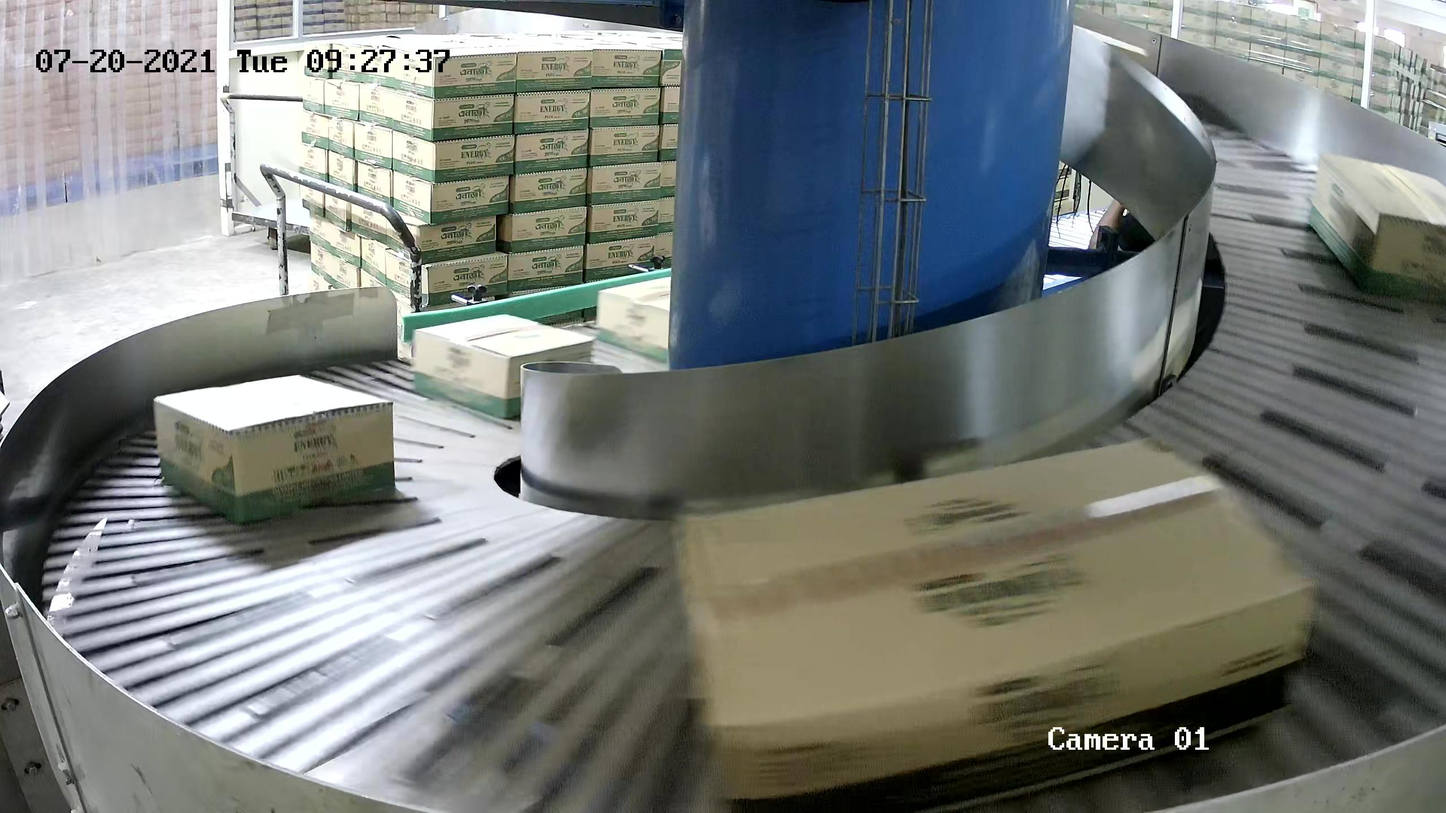Box: (668, 431, 1322, 813), (152, 373, 397, 526), (1305, 150, 1446, 303), (410, 312, 596, 419), (595, 275, 672, 363)
